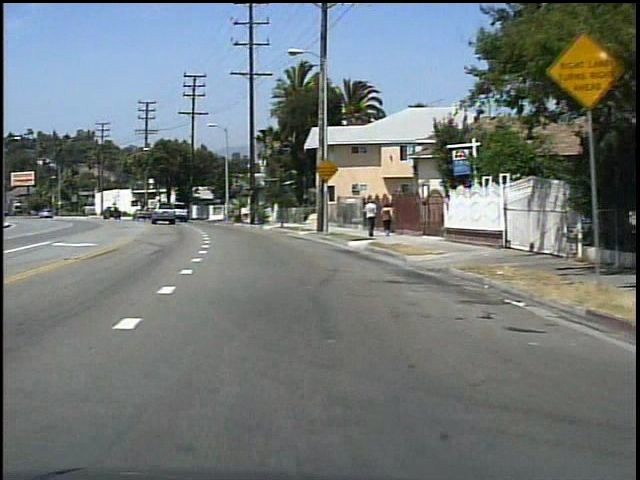person: (360, 195, 378, 239), (377, 200, 395, 235)
